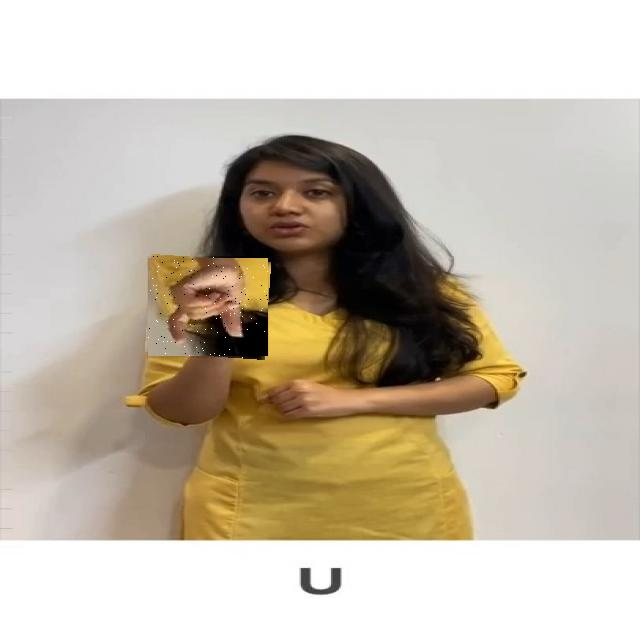U: (147, 256, 269, 358)
